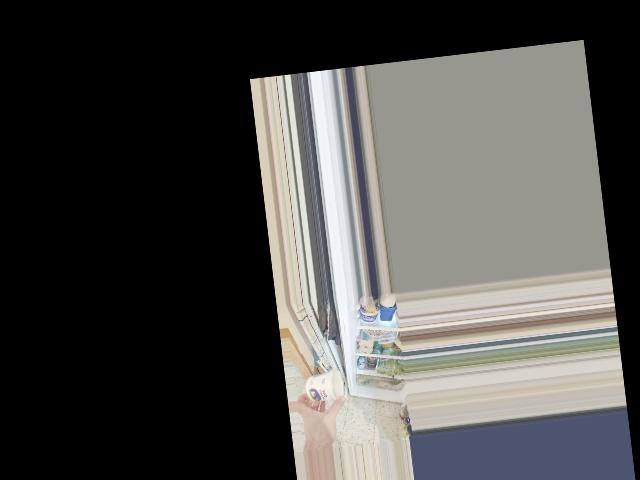cotage: (302, 369, 345, 404)
